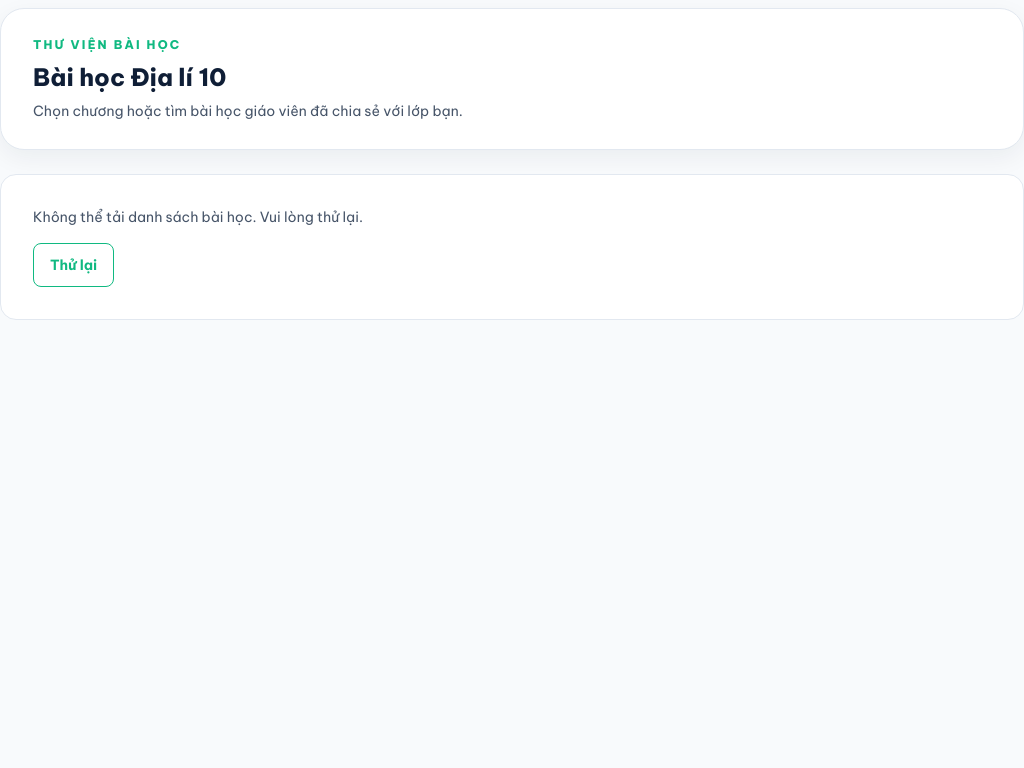
Test: Student Lessons list with Laravel API mock › shows an API error separately and retries without local fallback
Expected: the message "Không thể tải danh sách bài học. Vui lòng thử lại. Thử lại" is shown, [0,174,1023,320]
Step 1. Click the button "Thử lại" → (74, 265), box [33,243,114,287]
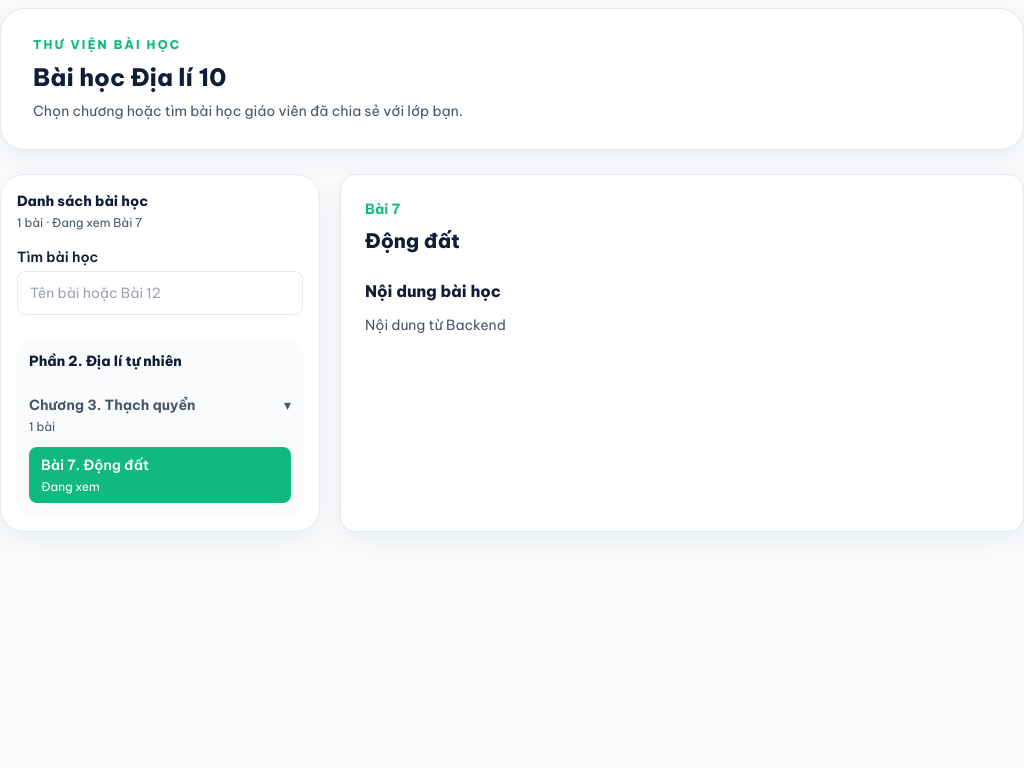
Expected: the text "Bài 7. Động đất" is shown, [41,456,149,474]
